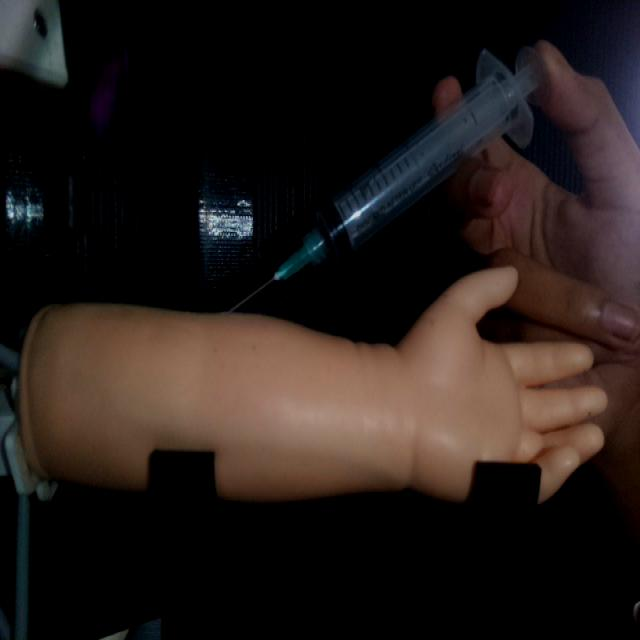Above 30 degrees: (221, 44, 542, 315)
